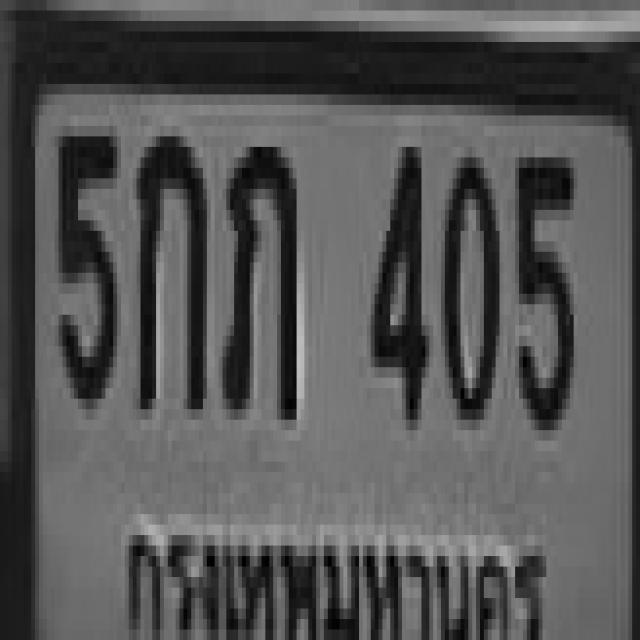0: (441, 147, 500, 423)
10GorGai: (132, 126, 208, 415)
4: (367, 136, 425, 420)
41PhorSamPhao: (218, 136, 298, 423)
5: (513, 148, 575, 437), (54, 126, 118, 405)
Bangkok: (108, 483, 556, 640)
